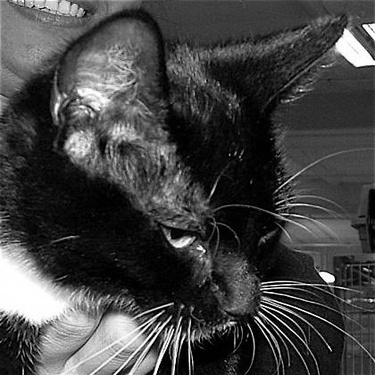cat: (7, 10, 347, 371)
